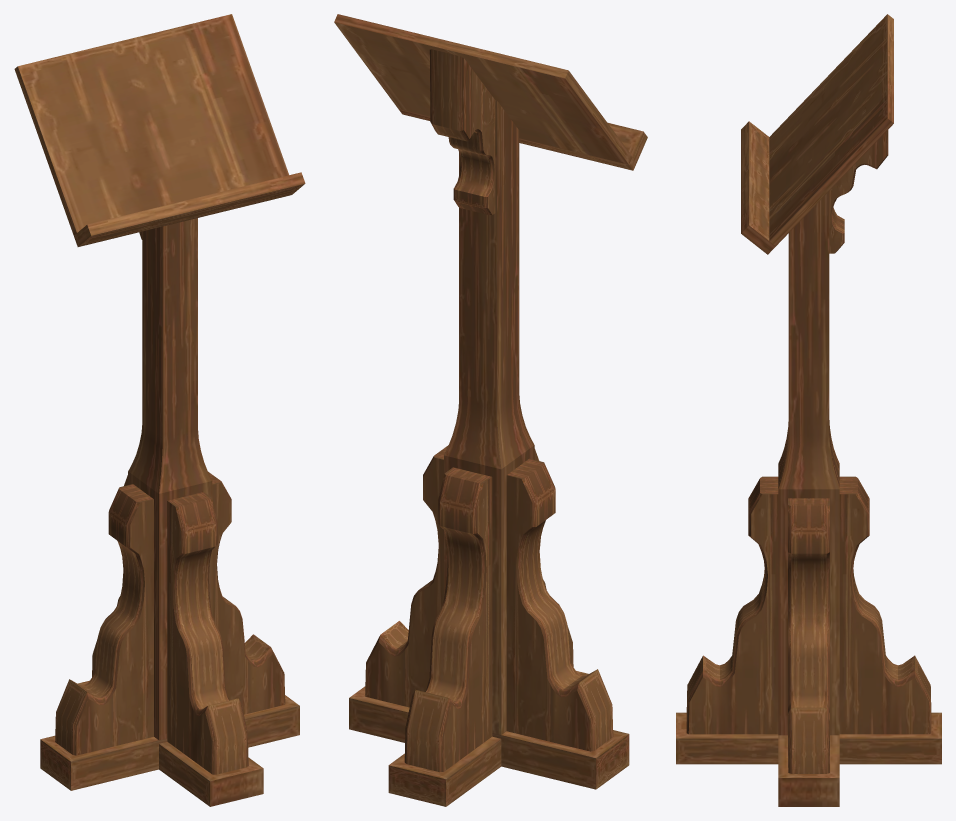
Rendered from bookstand.glb.
3 renders of one model, left to right at view 1: azimuth 30°, elevation 25°; view 2: azimuth 150°, elevation 25°; view 3: azimuth 270°, elevation 25°, orthographic. The views are drawn at different scales.
Visible parts, largest first — view 1: BookStand; view 2: BookStand; view 3: BookStand.
Boxes of the visible parts, x1,y1,x2,y2 form: BookStand: [14, 14, 305, 806]; BookStand: [334, 14, 647, 806]; BookStand: [676, 14, 941, 806].
Size of the model in its own units: 0.5071 by 1.45 by 0.5112.
1 material, 1 textured.
